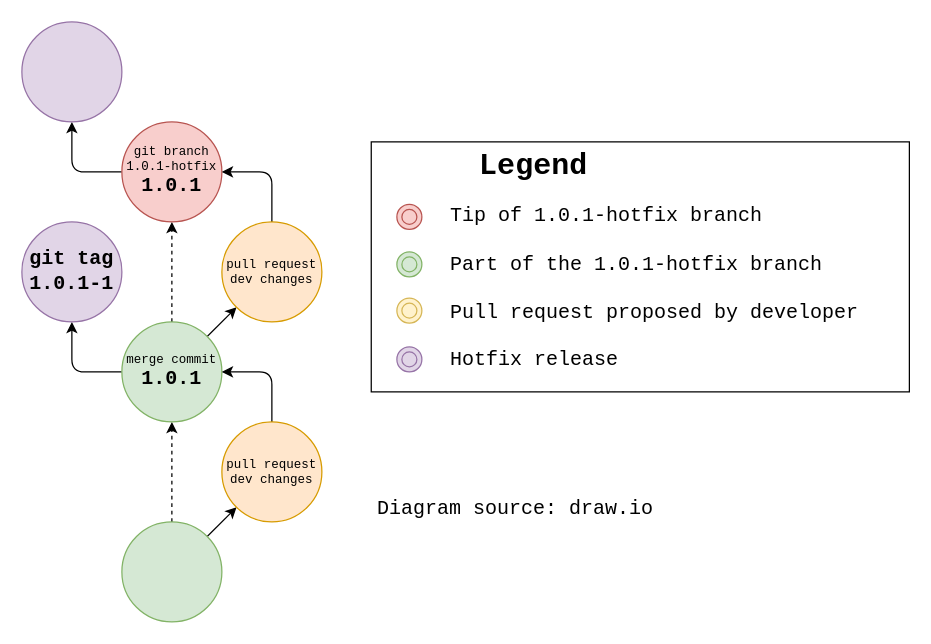
The diagram is 931 pixels wide and 644 high, and some of its shapes have lost their labels. Each missing label, with the box of its shape:
git tag 1.0.1-2: (21, 21, 122, 122)
initial commit: (121, 521, 222, 622)
